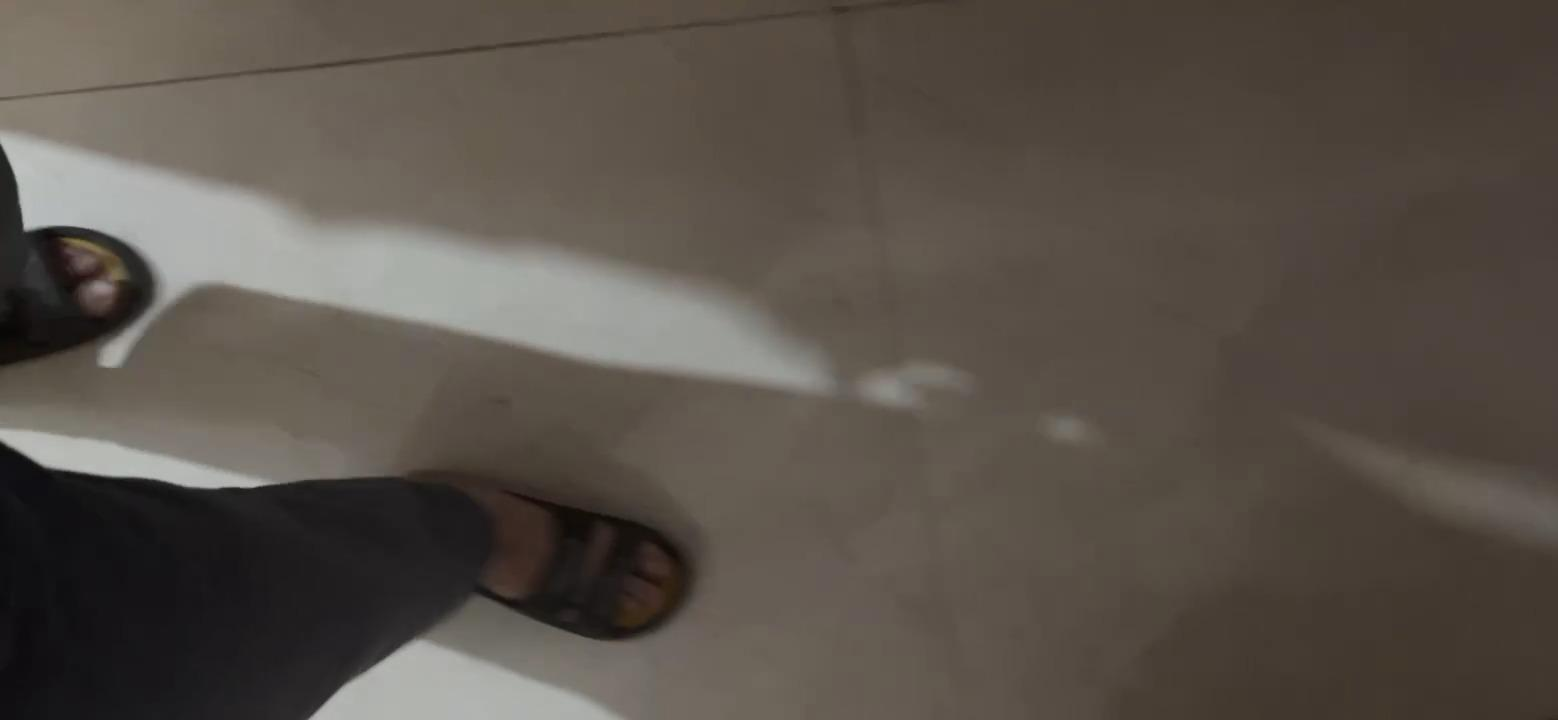no-boot: (387, 441, 694, 637), (19, 211, 158, 348)
